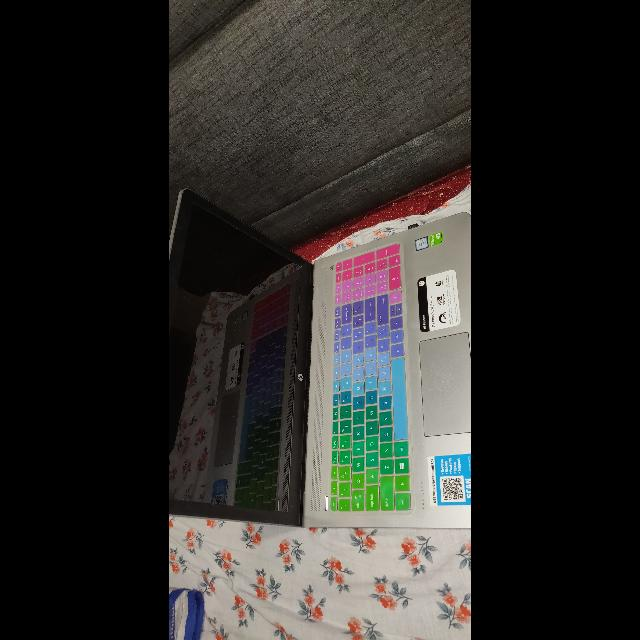Laptop: (256, 1, 422, 637)
